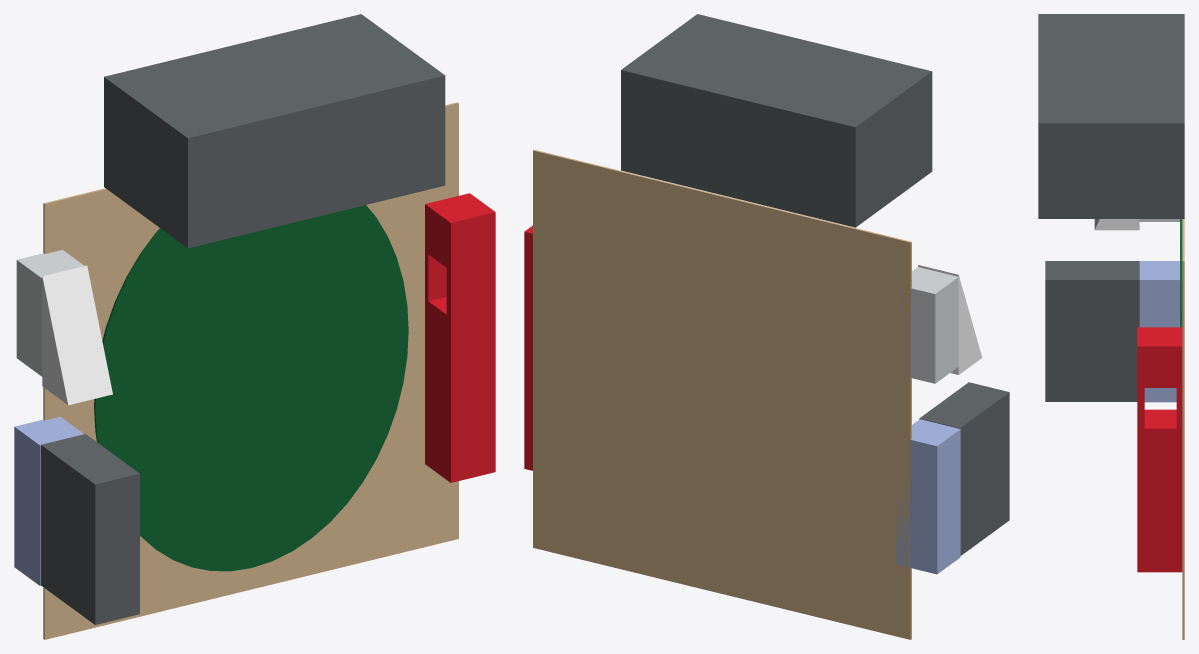
The model's file is james_oval.dae.
3 views of the same model, side by side, from view 1: azimuth 30°, elevation 25°; view 2: azimuth 150°, elevation 25°; view 3: azimuth 270°, elevation 25° (orthographic). The views are drawn at different scales.
Visible parts, largest first — view 1: node_ed125dd3_265e_4f88_911d_0f231d19a8d7_mesh0, node_2455d02f_f1ba_4e77_9134_c9d42f2fc182_mesh0, node_dc074b1f_3ad0_4b83_8aab_dae45ee540bb_mesh0, node_27a095b1_c691_4b49_acfd_b23de4ad1c63_mesh0, node_1e695a0d_6730_49bc_9f8c_6fcb3a165be2_mesh0, node_36560d71_d9a5_4bee_8c9d_070e53fd227f_mesh0, node_e90011a0_11fc_489e_bde5_ad94cb27e9d5_mesh0, node_792c4019_36e4_43a0_ba90_96972b8fd096_mesh0; view 2: node_dc074b1f_3ad0_4b83_8aab_dae45ee540bb_mesh0, node_2455d02f_f1ba_4e77_9134_c9d42f2fc182_mesh0, node_1e695a0d_6730_49bc_9f8c_6fcb3a165be2_mesh0, node_e90011a0_11fc_489e_bde5_ad94cb27e9d5_mesh0, node_792c4019_36e4_43a0_ba90_96972b8fd096_mesh0, node_27a095b1_c691_4b49_acfd_b23de4ad1c63_mesh0, node_36560d71_d9a5_4bee_8c9d_070e53fd227f_mesh0; view 3: node_2455d02f_f1ba_4e77_9134_c9d42f2fc182_mesh0, node_1e695a0d_6730_49bc_9f8c_6fcb3a165be2_mesh0, node_27a095b1_c691_4b49_acfd_b23de4ad1c63_mesh0, node_e90011a0_11fc_489e_bde5_ad94cb27e9d5_mesh0, node_dc074b1f_3ad0_4b83_8aab_dae45ee540bb_mesh0, node_36560d71_d9a5_4bee_8c9d_070e53fd227f_mesh0, node_ed125dd3_265e_4f88_911d_0f231d19a8d7_mesh0.
Boxes of the visible parts, left/top/right/bottom form: node_ed125dd3_265e_4f88_911d_0f231d19a8d7_mesh0: left=94, top=205, right=408, bottom=571; node_2455d02f_f1ba_4e77_9134_c9d42f2fc182_mesh0: left=104, top=14, right=445, bottom=248; node_dc074b1f_3ad0_4b83_8aab_dae45ee540bb_mesh0: left=43, top=102, right=458, bottom=639; node_27a095b1_c691_4b49_acfd_b23de4ad1c63_mesh0: left=425, top=193, right=495, bottom=482; node_1e695a0d_6730_49bc_9f8c_6fcb3a165be2_mesh0: left=41, top=434, right=139, bottom=624; node_36560d71_d9a5_4bee_8c9d_070e53fd227f_mesh0: left=42, top=265, right=112, bottom=405; node_e90011a0_11fc_489e_bde5_ad94cb27e9d5_mesh0: left=14, top=416, right=83, bottom=585; node_792c4019_36e4_43a0_ba90_96972b8fd096_mesh0: left=16, top=250, right=84, bottom=376; node_dc074b1f_3ad0_4b83_8aab_dae45ee540bb_mesh0: left=533, top=149, right=911, bottom=639; node_2455d02f_f1ba_4e77_9134_c9d42f2fc182_mesh0: left=621, top=14, right=932, bottom=227; node_1e695a0d_6730_49bc_9f8c_6fcb3a165be2_mesh0: left=919, top=382, right=1009, bottom=555; node_e90011a0_11fc_489e_bde5_ad94cb27e9d5_mesh0: left=896, top=419, right=960, bottom=574; node_792c4019_36e4_43a0_ba90_96972b8fd096_mesh0: left=895, top=267, right=958, bottom=383; node_27a095b1_c691_4b49_acfd_b23de4ad1c63_mesh0: left=524, top=225, right=532, bottom=470; node_36560d71_d9a5_4bee_8c9d_070e53fd227f_mesh0: left=918, top=265, right=982, bottom=374; node_2455d02f_f1ba_4e77_9134_c9d42f2fc182_mesh0: left=1038, top=14, right=1184, bottom=218; node_1e695a0d_6730_49bc_9f8c_6fcb3a165be2_mesh0: left=1045, top=261, right=1139, bottom=401; node_27a095b1_c691_4b49_acfd_b23de4ad1c63_mesh0: left=1137, top=327, right=1182, bottom=572; node_e90011a0_11fc_489e_bde5_ad94cb27e9d5_mesh0: left=1139, top=261, right=1179, bottom=402; node_dc074b1f_3ad0_4b83_8aab_dae45ee540bb_mesh0: left=1182, top=219, right=1184, bottom=639; node_36560d71_d9a5_4bee_8c9d_070e53fd227f_mesh0: left=1094, top=219, right=1139, bottom=230; node_ed125dd3_265e_4f88_911d_0f231d19a8d7_mesh0: left=1180, top=219, right=1182, bottom=327.
Size of the model in its own units: 203 by 234 by 65.
